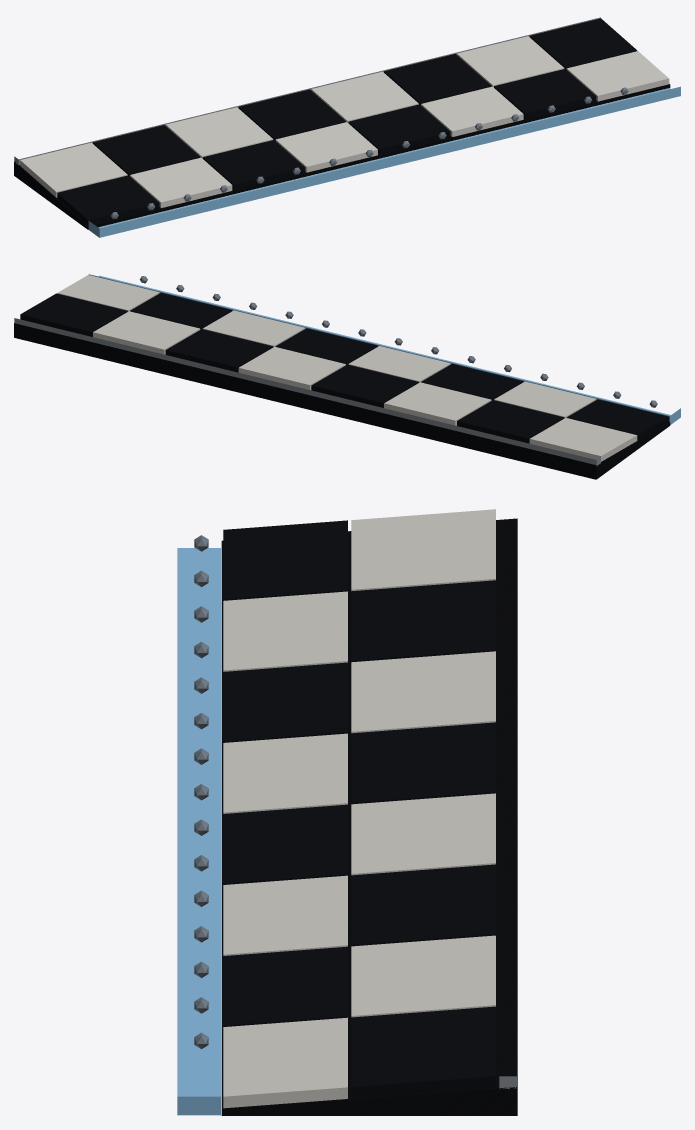
Rendered from v2_apron.glb.
3 renders of one model, top to bottom at view 1: azimuth 30°, elevation 25°; view 2: azimuth 150°, elevation 25°; view 3: azimuth 270°, elevation 25°, orthographic. The views are drawn at different scales.
Visible parts, largest first — view 1: Pavers_A, Pavers_B, Nosing_Line, Apron_Body, Drain_Grate, Apron_Pebbles; view 2: Pavers_B, Pavers_A, Apron_Body, Drain_Grate, Nosing_Line, Apron_Pebbles; view 3: Pavers_B, Pavers_A, Nosing_Line, Apron_Body, Apron_Pebbles.
Part boxes in pixels (box(x1,y1,x2,y2)): Pavers_A: box(20, 36, 669, 207); Pavers_B: box(57, 18, 637, 225); Nosing_Line: box(88, 86, 680, 237); Apron_Body: box(14, 84, 670, 229); Drain_Grate: box(14, 17, 600, 165); Apron_Pebbles: box(110, 87, 628, 219); Pavers_B: box(20, 292, 669, 443); Pavers_A: box(57, 275, 637, 461); Apron_Body: box(14, 323, 670, 479); Drain_Grate: box(14, 318, 600, 465); Nosing_Line: box(88, 274, 680, 424); Apron_Pebbles: box(139, 276, 657, 407); Pavers_B: box(223, 520, 495, 1098); Pavers_A: box(223, 509, 495, 1108); Nosing_Line: box(177, 548, 220, 1115); Apron_Body: box(221, 518, 517, 1115); Apron_Pebbles: box(194, 535, 208, 1048).
Size of what is drawn, in the model's own units: 4 by 0.1293 by 1.01.
6 materials, 3 textured.
